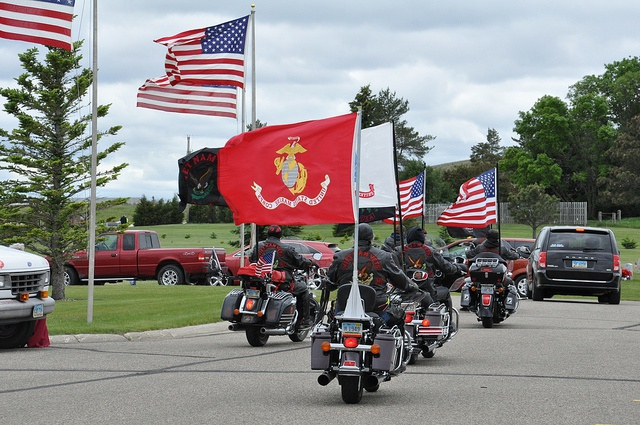non-vehicle: (306, 283, 405, 408), (218, 275, 336, 345), (391, 286, 458, 358), (461, 258, 517, 330)
